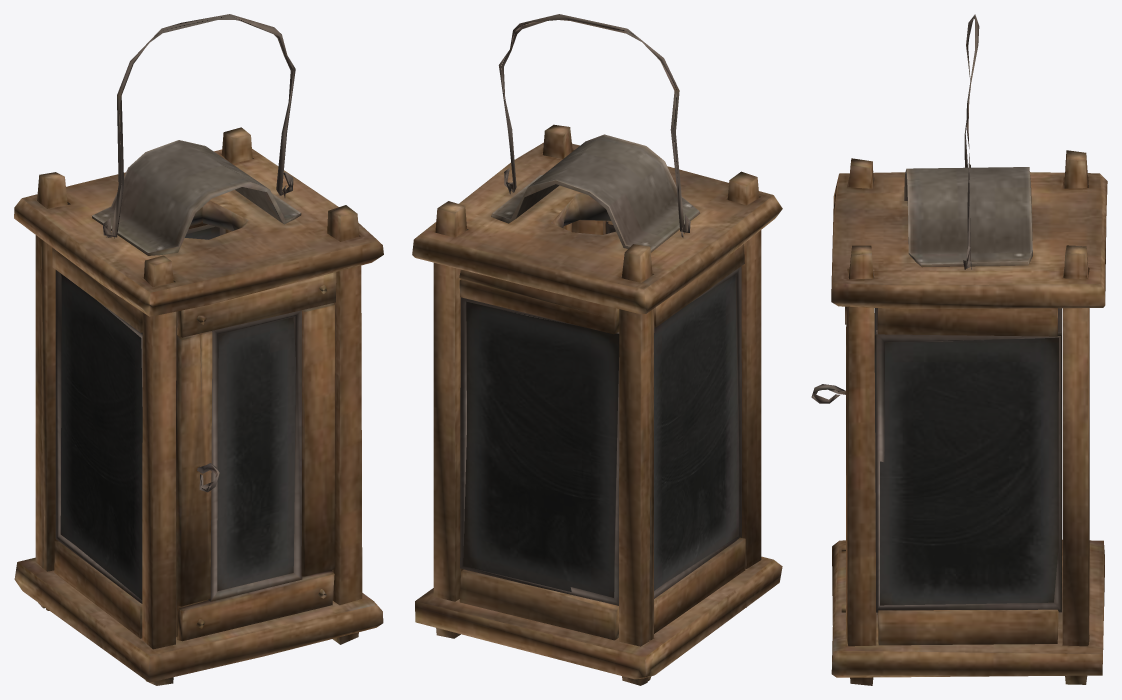
File: wooden_lantern_01.glb
3 views of the same model, side by side, from view 1: azimuth 30°, elevation 25°; view 2: azimuth 150°, elevation 25°; view 3: azimuth 270°, elevation 25° (orthographic).
Visible parts, largest first — view 1: wooden_lantern_01, wooden_lantern_01_door, wooden_lantern_01_handle; view 2: wooden_lantern_01, wooden_lantern_01_handle, wooden_lantern_01_door; view 3: wooden_lantern_01, wooden_lantern_01_handle, wooden_lantern_01_door.
Part boxes in pixels (x1,y1,x2,y2): wooden_lantern_01: (14,127,383,685); wooden_lantern_01_door: (176,272,336,641); wooden_lantern_01_handle: (102,14,295,237); wooden_lantern_01: (412,124,782,685); wooden_lantern_01_handle: (498,14,690,232); wooden_lantern_01_door: (572,220,615,234); wooden_lantern_01: (831,150,1107,685); wooden_lantern_01_handle: (964,14,979,268); wooden_lantern_01_door: (811,306,846,612).
Bounding box in the file's own units: 0.2186 × 0.5267 × 0.2331.
2 materials, 2 textured.
